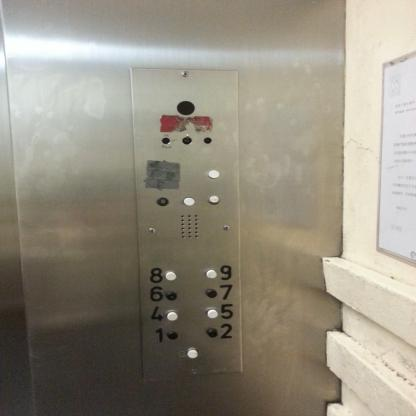D: (157, 197, 169, 206)
blur: (165, 291, 176, 301), (161, 136, 171, 145), (208, 196, 219, 204), (203, 137, 212, 144)
empty: (176, 100, 196, 116), (182, 195, 195, 208), (163, 270, 177, 282), (166, 310, 178, 321), (167, 329, 178, 341), (208, 168, 219, 178), (206, 288, 217, 298), (187, 348, 198, 358), (207, 328, 218, 337), (207, 309, 217, 318), (206, 270, 216, 278)
switch: (182, 134, 192, 144)
